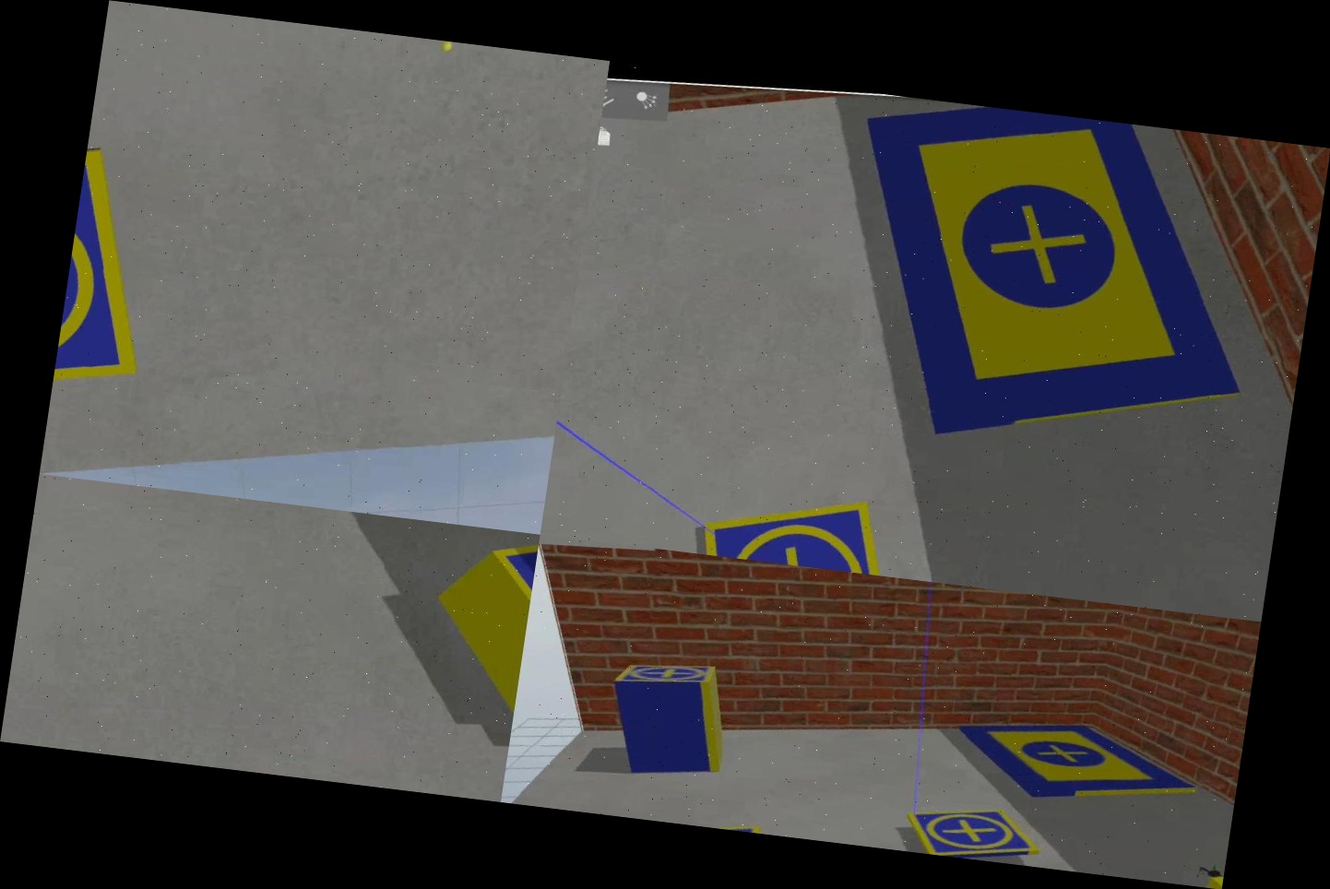large_base: (818, 92, 1283, 478), (943, 700, 1208, 821)
small_base: (47, 143, 172, 430), (692, 480, 918, 579), (469, 528, 540, 689), (901, 798, 1051, 867), (614, 653, 717, 696)
